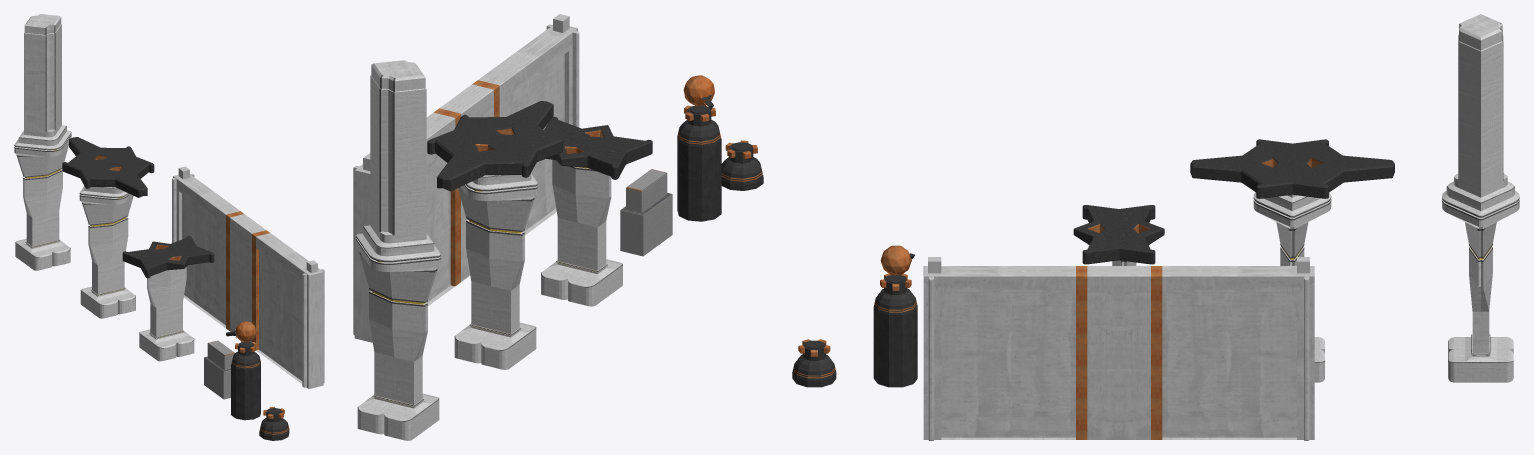
File: Map_Elements.fbx
3 renders of one model, left to right at view 1: azimuth 30°, elevation 25°; view 2: azimuth 150°, elevation 25°; view 3: azimuth 270°, elevation 25°, orthographic. The views are drawn at different scales.
Parts seen in each view (by area): view 1: Wall_With_Platform, Platform_BASED_Height_3, Platform_BASED_Height_2, Platform_BASED_Height_1, Platform_Surface_m, Long_Turret_Base, Platform_Surface_S, Barrier, Long_Turret_Base.001, Turret_Core; view 2: Platform_BASED_Height_3, Wall_With_Platform, Platform_BASED_Height_2, Platform_BASED_Height_1, Platform_Surface_m, Long_Turret_Base, Platform_Surface_S, Barrier, Long_Turret_Base.001, Turret_Core; view 3: Wall_With_Platform, Platform_BASED_Height_3, Platform_Surface_m, Long_Turret_Base, Platform_Surface_S, Platform_BASED_Height_2, Long_Turret_Base.001, Turret_Core.
Boxes of the visible parts, x1,y1,x2,y2 form: Wall_With_Platform: [172, 166, 324, 388]; Platform_BASED_Height_3: [14, 14, 71, 270]; Platform_BASED_Height_2: [79, 186, 135, 318]; Platform_BASED_Height_1: [139, 267, 194, 361]; Platform_Surface_m: [62, 137, 154, 197]; Long_Turret_Base: [231, 341, 260, 420]; Platform_Surface_S: [122, 236, 214, 278]; Barrier: [204, 340, 234, 399]; Long_Turret_Base.001: [259, 406, 289, 440]; Turret_Core: [226, 321, 256, 342]; Platform_BASED_Height_3: [356, 60, 440, 440]; Wall_With_Platform: [353, 14, 579, 342]; Platform_BASED_Height_2: [454, 173, 537, 369]; Platform_BASED_Height_1: [541, 159, 622, 306]; Platform_Surface_m: [427, 101, 563, 191]; Long_Turret_Base: [677, 105, 721, 221]; Platform_Surface_S: [544, 116, 652, 179]; Barrier: [620, 169, 672, 256]; Long_Turret_Base.001: [721, 140, 763, 190]; Turret_Core: [683, 75, 714, 109]; Wall_With_Platform: [923, 257, 1314, 440]; Platform_BASED_Height_3: [1442, 14, 1519, 382]; Platform_Surface_m: [1190, 139, 1394, 198]; Long_Turret_Base: [873, 273, 917, 387]; Platform_Surface_S: [1073, 205, 1164, 264]; Platform_BASED_Height_2: [1253, 192, 1331, 382]; Long_Turret_Base.001: [792, 339, 836, 387]; Turret_Core: [880, 245, 914, 275].
Bounding box in the file's own units: 939 × 1768 × 3301.
Materials: 6 (5 with a texture image).
